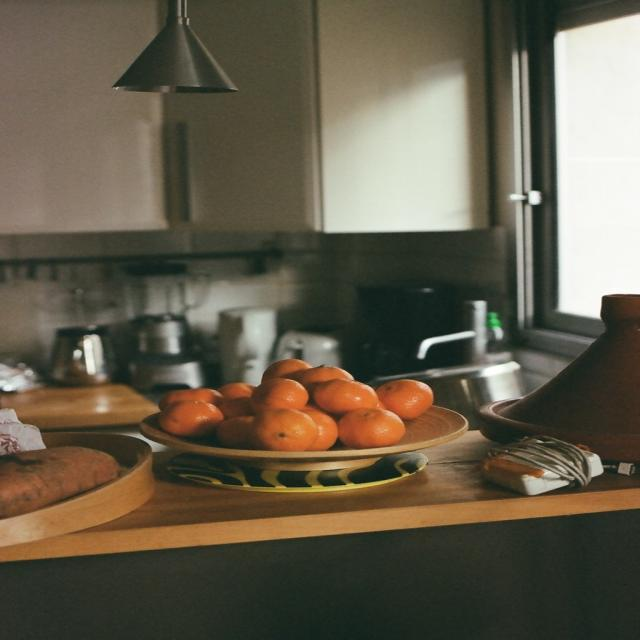Orange: (350, 410, 426, 446), (252, 411, 320, 446), (380, 380, 446, 414), (157, 403, 223, 433), (251, 372, 297, 413), (317, 380, 371, 408), (156, 384, 221, 404), (302, 364, 344, 392), (218, 377, 253, 409), (223, 407, 251, 437), (280, 360, 310, 378), (320, 417, 335, 441)
